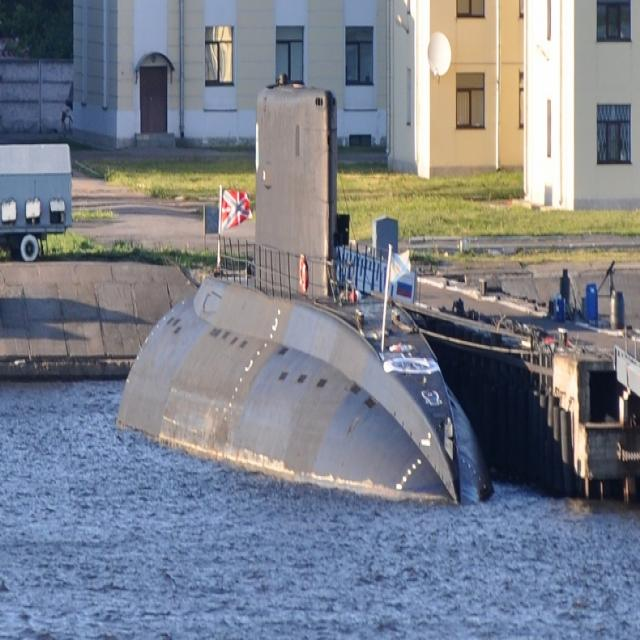submarine: (110, 61, 497, 502)
